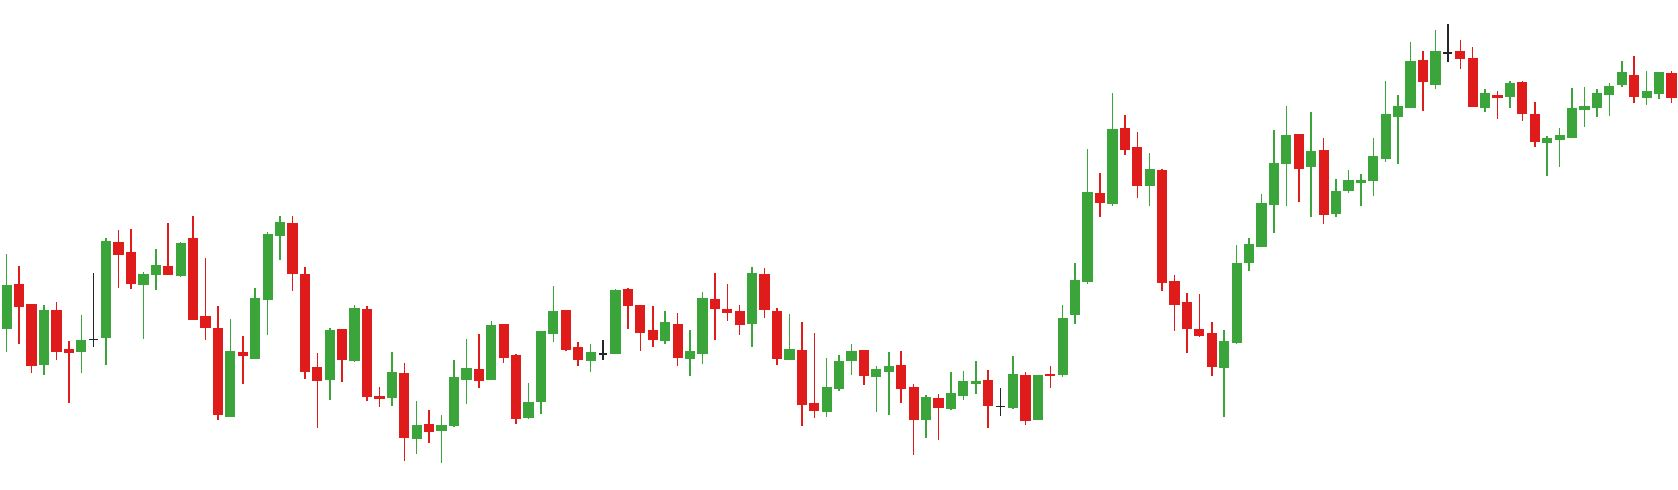buy: (63, 286, 237, 423), (797, 359, 933, 453)
